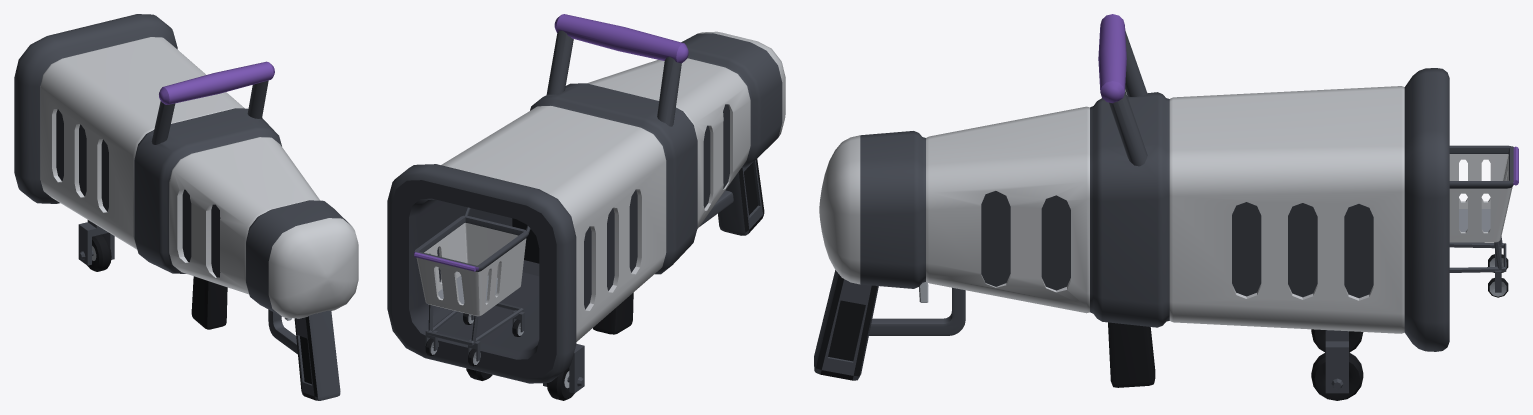
The model's file is w_cart.glb.
The picture shows the model from 3 angles, left to right: view 1: azimuth 30°, elevation 25°; view 2: azimuth 150°, elevation 25°; view 3: azimuth 270°, elevation 25°; orthographic projection. The views are drawn at different scales.
Visible parts, largest first — view 1: body_wzA, body_wzB, grip_wzB, body_wzN, handle_wzN, fore_wzB, handle_wzB, castor_wzB, grip_wzN, castor_wzN; view 2: body_wzA, body_wzB, bore_wzN, load_wzN.002, handle_wzN, body_wzN, load_wzN.005, handle_wzB, grip_wzB, grip_wzN, fore_wzB, castor_wzB (+4 smaller); view 3: body_wzA, body_wzB, body_wzN, grip_wzB, load_wzN.002, grip_wzN, fore_wzB, load_wzN.005, handle_wzN, handle_wzB, castor_wzN, castor_wzB.
Boxes of the visible parts, <box> form: body_wzA: <box>40,37,358,318</box>; body_wzB: <box>14,14,350,316</box>; grip_wzB: <box>268,309,340,400</box>; body_wzN: <box>56,109,220,277</box>; handle_wzN: <box>159,61,274,104</box>; fore_wzB: <box>191,276,227,329</box>; handle_wzB: <box>151,80,268,144</box>; castor_wzB: <box>78,220,114,265</box>; grip_wzN: <box>294,316,317,400</box>; castor_wzN: <box>87,234,111,271</box>; body_wzA: <box>441,31,785,341</box>; body_wzB: <box>387,33,782,383</box>; bore_wzN: <box>391,180,556,378</box>; load_wzN.002: <box>416,222,526,316</box>; handle_wzN: <box>554,14,688,63</box>; body_wzN: <box>584,104,729,309</box>; load_wzN.005: <box>414,207,530,361</box>; handle_wzB: <box>546,30,681,126</box>; grip_wzB: <box>699,160,764,235</box>; grip_wzN: <box>739,159,764,233</box>; fore_wzB: <box>593,292,633,334</box>; castor_wzB: <box>543,343,584,393</box>; body_wzA: <box>819,86,1404,333</box>; body_wzB: <box>860,68,1449,351</box>; body_wzN: <box>981,191,1373,297</box>; grip_wzB: <box>814,270,965,380</box>; load_wzN.002: <box>1449,154,1512,242</box>; grip_wzN: <box>816,274,877,380</box>; fore_wzB: <box>1108,322,1155,387</box>; load_wzN.005: <box>1449,145,1513,292</box>; handle_wzN: <box>1098,14,1126,103</box>; handle_wzB: <box>1109,31,1147,166</box>; castor_wzN: <box>1311,329,1363,400</box>; castor_wzB: <box>1325,330,1348,393</box>.
Bounding box in the file's own units: 0.2768 × 0.4305 × 0.8154.
